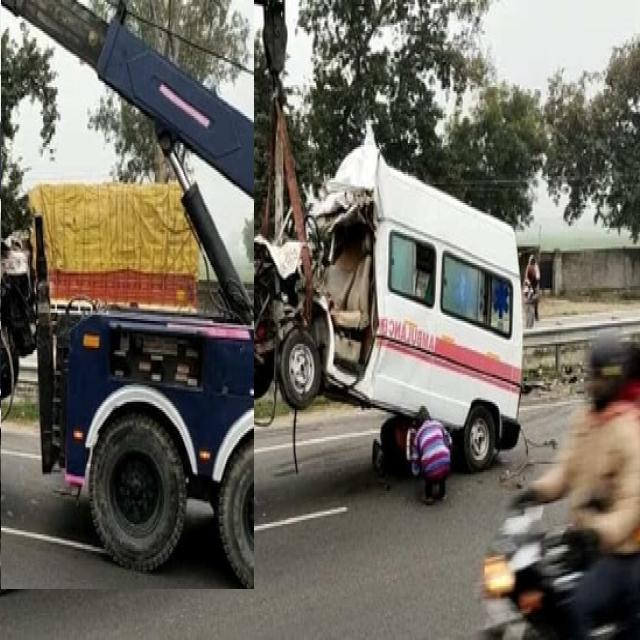accident: (219, 84, 522, 471)
truck: (1, 0, 253, 589), (54, 182, 224, 305)
